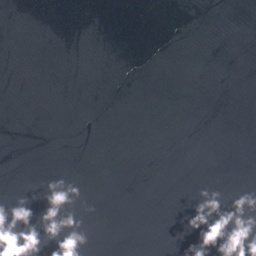Marine Debris: (120, 18, 200, 82), (117, 85, 119, 87)
